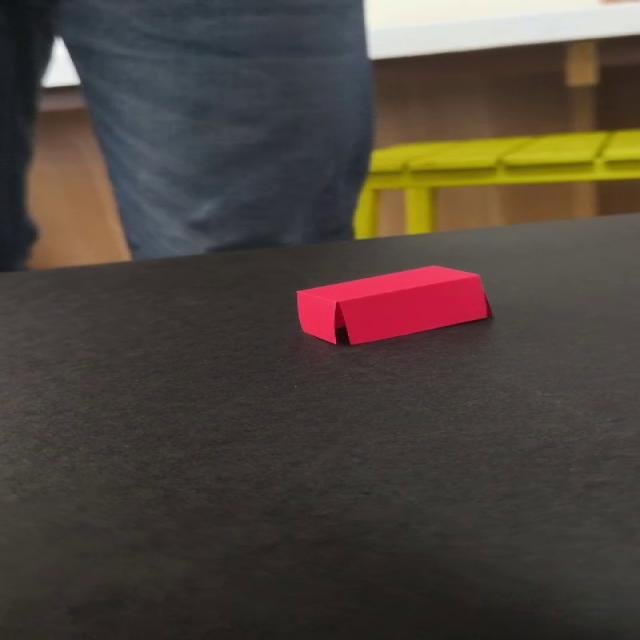red block: (294, 264, 490, 346)
